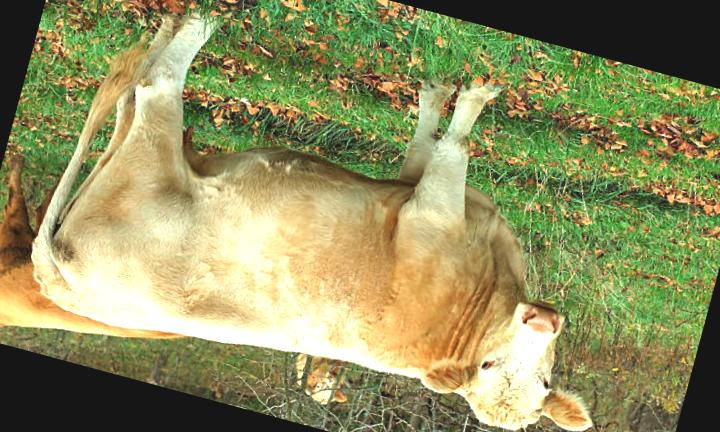Charolais: (31, 16, 590, 431)
